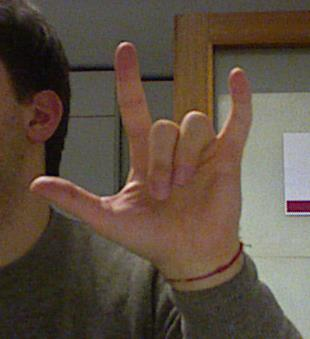back: (28, 40, 258, 279)
